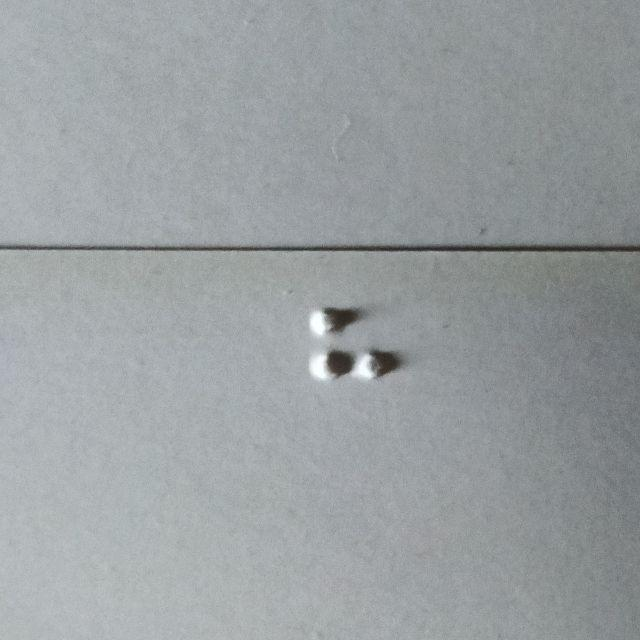hindi: (309, 305, 393, 432)
